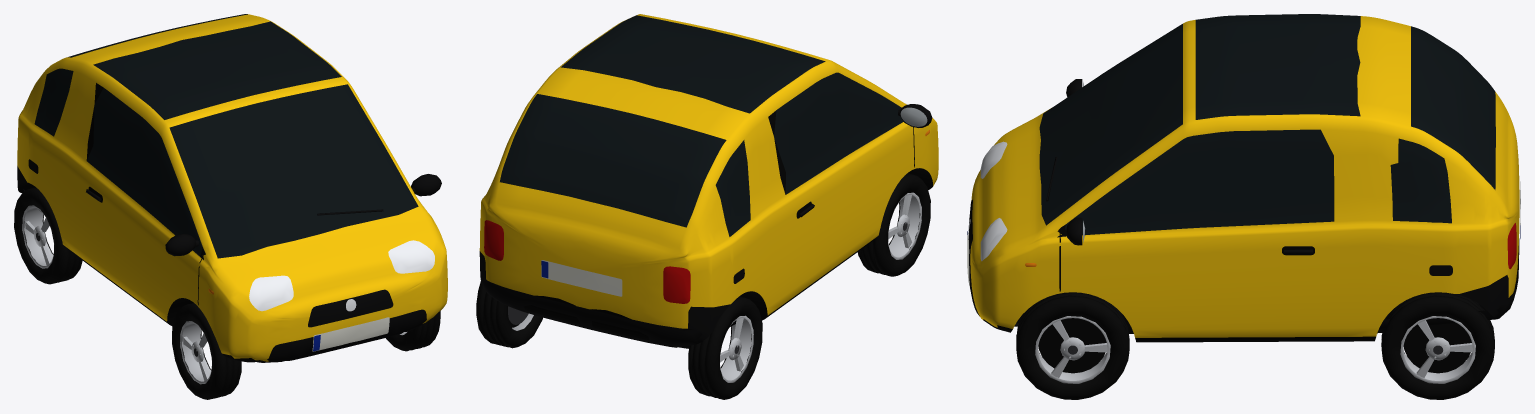
File: smart_lod.glb
3 views of the same model, side by side, from view 1: azimuth 30°, elevation 25°; view 2: azimuth 150°, elevation 25°; view 3: azimuth 270°, elevation 25° (orthographic). The views are drawn at different scales.
Visible parts, largest first — view 1: body, decals, wheel_fr, wheel_rr, details, wheel_fl; view 2: body, decals, wheel_rr, wheel_fr, wheel_rl, details; view 3: body, wheel_fl, wheel_rl, decals, details.
Boxes of the visible parts, x1,y1,x2,y2 form: body: (17,14,447,362); decals: (23,159,434,362); wheel_fr: (172,302,241,399); wheel_rr: (14,187,82,284); details: (86,174,441,256); wheel_fl: (386,311,440,351); body: (479,14,938,348); decals: (481,103,929,347); wheel_rr: (688,296,762,399); wheel_fr: (857,173,930,276); wheel_rl: (476,281,542,348); details: (798,104,932,217); body: (970,14,1519,342); wheel_fl: (1016,292,1129,399); wheel_rl: (1381,292,1494,399); decals: (967,141,1520,333); details: (1046,79,1312,253).
Size of the model in its own units: 1.88 by 1.57 by 2.84.
